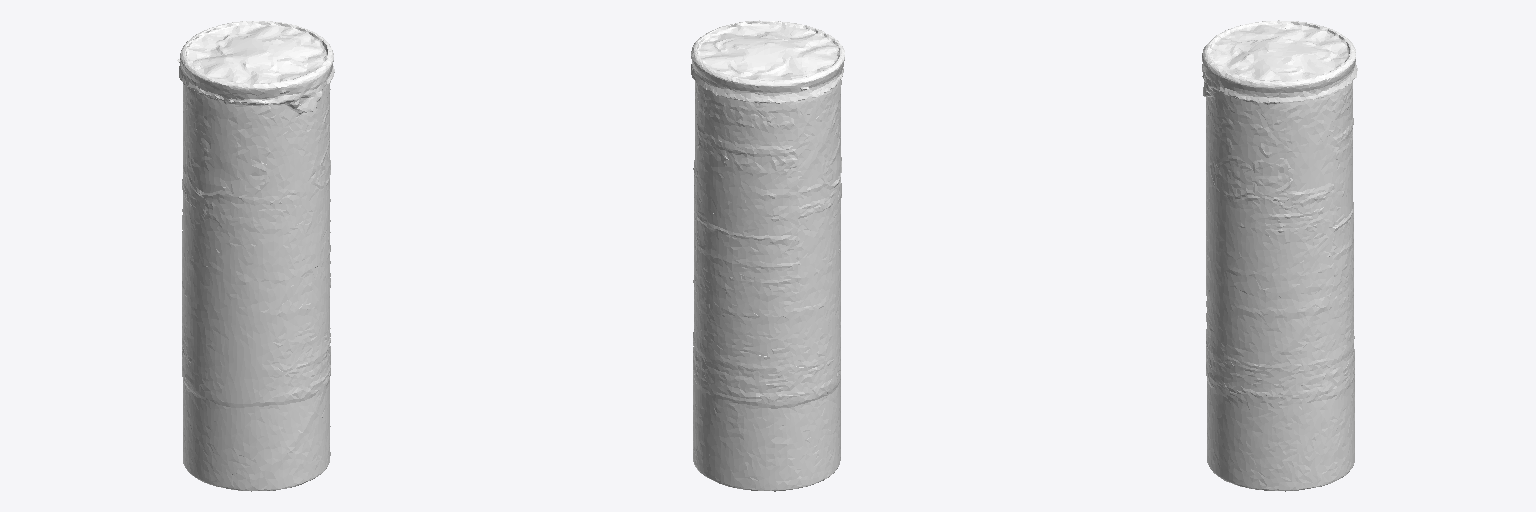
The robot description file, URDF, robot "7_chip_can_0":
<?xml version='1.0' encoding='utf-8'?>
<robot name="7_chip_can_0">
        <link name="link_0">
            <visual>
                <origin xyz="0.0 0.0 0.0" rpy="0.0 0.0 0.0" />
                <geometry>
                    <mesh filename="textured_objs/textured.obj" scale="1 1 1.0" />
                </geometry>
                <material name="white">
                    <color rgba="1 1 1 1" />
                </material>
            </visual>
            <collision>
                <origin xyz="0.0 0.0 0.0" rpy="0.0 0.0 0.0" />
                <geometry>
                    <mesh filename="textured_objs/textured.obj" scale="1 1 1.0" />
                </geometry>
            </collision>
            <inertial>
                <mass value="0.1" />
                <inertia ixx="0.0001" ixy="0.0" ixz="0.0" iyy="0.0001" iyz="0.0" izz="0.0001" />
            </inertial>
        </link>
    </robot>

--- What the picture shows (computed from the rendered views, not written in the file) ---
Views: 3 orthographic renders of the robot side by side, from view 1: azimuth 30°, elevation 25°; view 2: azimuth 150°, elevation 25°; view 3: azimuth 270°, elevation 25°.
Robot: 7_chip_can_0 — 1 links, 0 joints (none); root link link_0; default pose: every joint at zero.
Links seen in each view (by area): view 1: link_0; view 2: link_0; view 3: link_0.
Boxes of the visible links, bbox=[...] form: link_0: bbox=[177, 21, 334, 491]; link_0: bbox=[691, 20, 844, 491]; link_0: bbox=[1202, 20, 1357, 491].
Bounding box of the posed robot: 0.0788 × 0.0788 × 0.2308 m (x, y, z).
Meshes: 1 distinct files referenced, 1 mesh visuals loaded (1 OBJ).